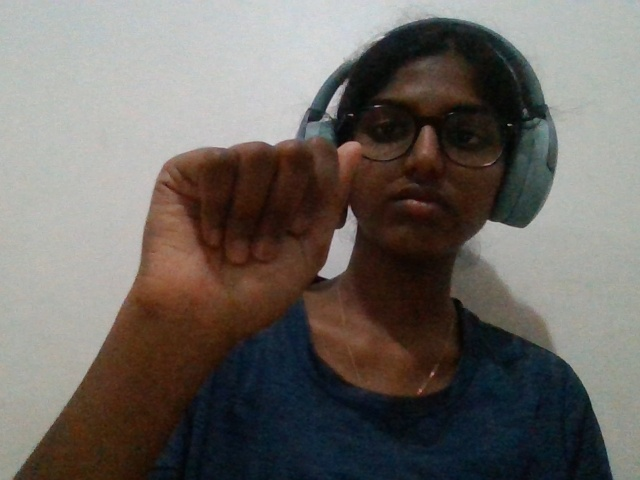A: (100, 133, 374, 379)
